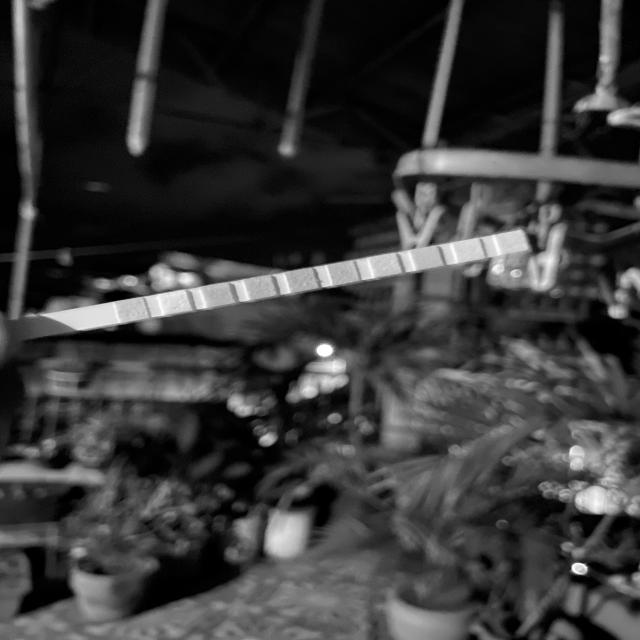Bilirubin: (163, 294, 186, 312)
Blood: (289, 272, 314, 290)
Glucose: (120, 302, 144, 318)
Ketone: (206, 286, 230, 304)
Leukocytes: (500, 234, 523, 252)
Nitrite: (457, 242, 480, 259)
Protein: (373, 256, 398, 274)
SpGravity: (249, 278, 271, 297)
Urobilinogen: (415, 249, 439, 267)
background: (0, 0, 640, 640)
pH: (332, 265, 355, 282)
strip: (28, 230, 532, 339)
